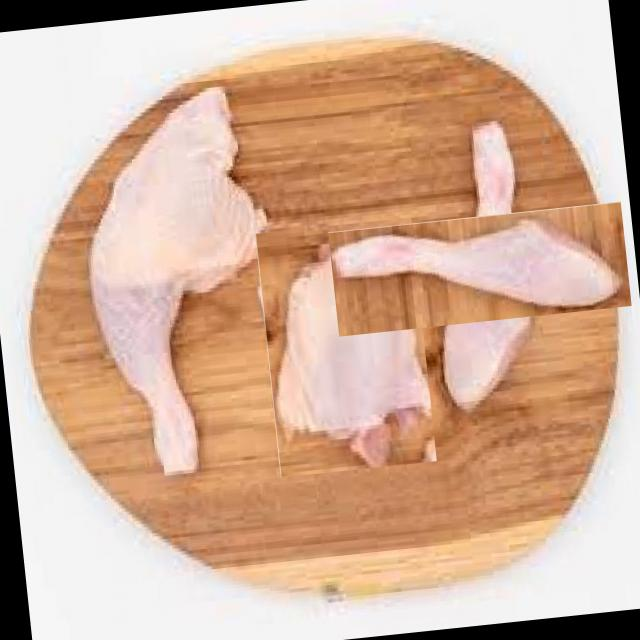chicken: (64, 80, 294, 488), (370, 160, 590, 378), (254, 217, 436, 478)
